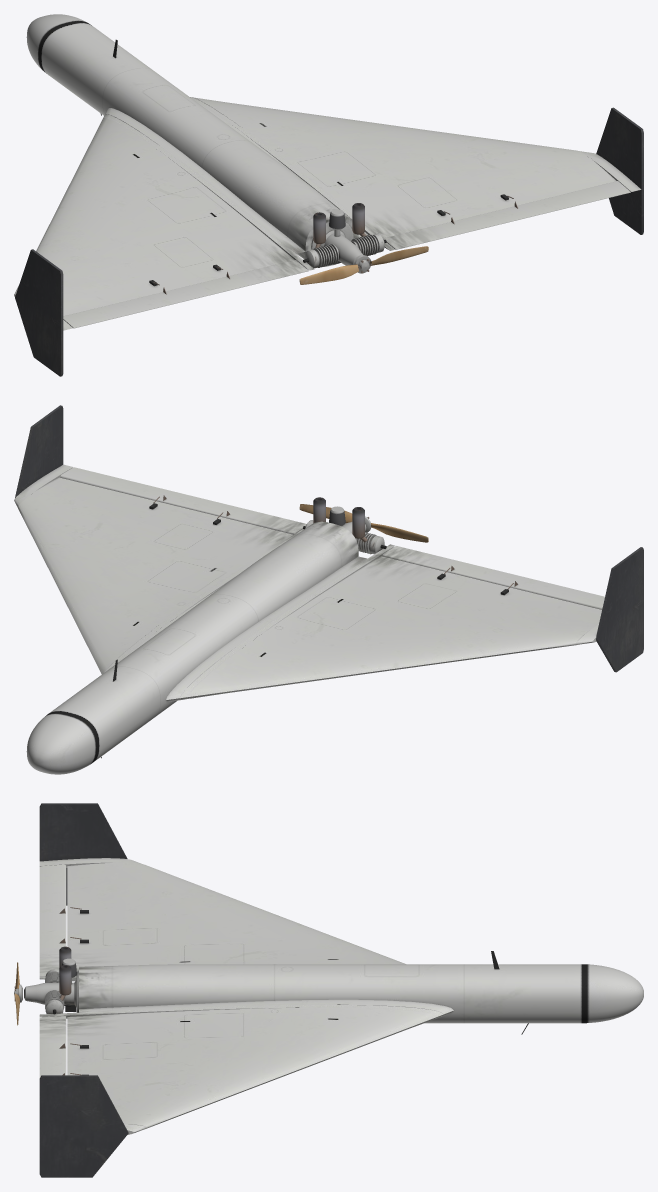
Rendered from d_shahed.glb.
The picture shows the model from 3 angles, top to bottom: view 1: azimuth 30°, elevation 25°; view 2: azimuth 150°, elevation 25°; view 3: azimuth 270°, elevation 25°; orthographic projection. The views are drawn at different scales.
Parts seen in each view (by area): view 1: wing, body, fin_l, elv_r, elv_l, fin_r, engine, prop, e_nose; view 2: wing, body, fin_l, elv_r, e_nose, elv_l, fin_r, engine, prop; view 3: wing, body, fin_r, fin_l, elv_l, e_nose, engine, elv_r.
Part boxes in pixels (<box>): wing: <box>14,97,641,330</box>; body: <box>37,20,358,266</box>; fin_l: <box>15,249,63,376</box>; elv_r: <box>383,181,630,249</box>; elv_l: <box>63,260,308,328</box>; fin_r: <box>596,107,643,234</box>; engine: <box>303,203,386,268</box>; prop: <box>299,246,428,284</box>; e_nose: <box>26,14,87,68</box>; wing: <box>14,464,601,701</box>; body: <box>45,521,358,764</box>; fin_l: <box>596,547,643,672</box>; elv_r: <box>60,467,306,534</box>; e_nose: <box>26,714,94,774</box>; elv_l: <box>382,546,604,609</box>; fin_r: <box>15,405,63,497</box>; engine: <box>303,497,386,554</box>; prop: <box>299,504,428,542</box>; wing: <box>39,858,453,1134</box>; body: <box>76,964,589,1023</box>; fin_r: <box>39,1075,128,1177</box>; fin_l: <box>39,803,127,905</box>; elv_l: <box>39,864,66,976</box>; e_nose: <box>589,964,643,1022</box>; engine: <box>24,946,76,1014</box>; elv_r: <box>39,1016,66,1077</box>.
Size of the model in its own units: 3.58 by 0.62 by 3.49.
4 materials, 4 textured.
